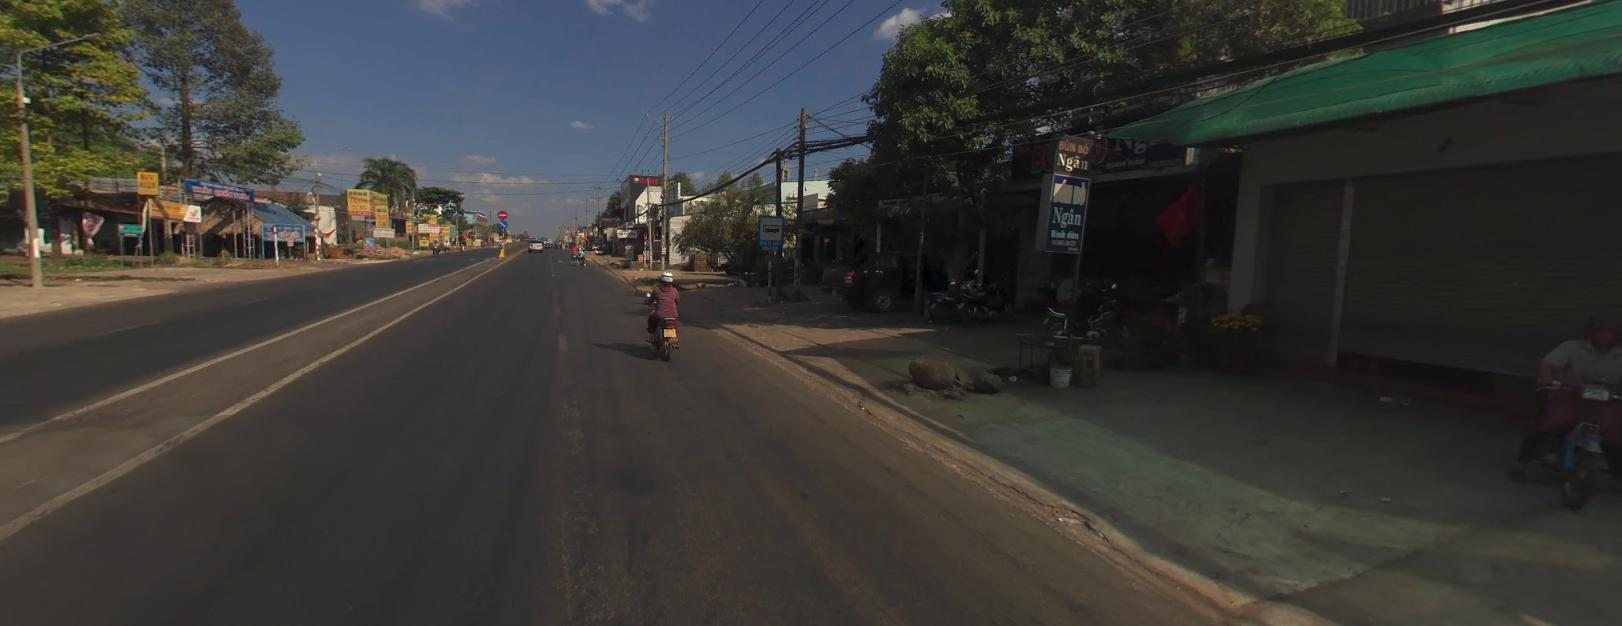Cam nguoc chieu: (498, 209, 507, 217), (497, 209, 506, 217)
Hieu lenh: (498, 219, 507, 227), (498, 218, 507, 226)
